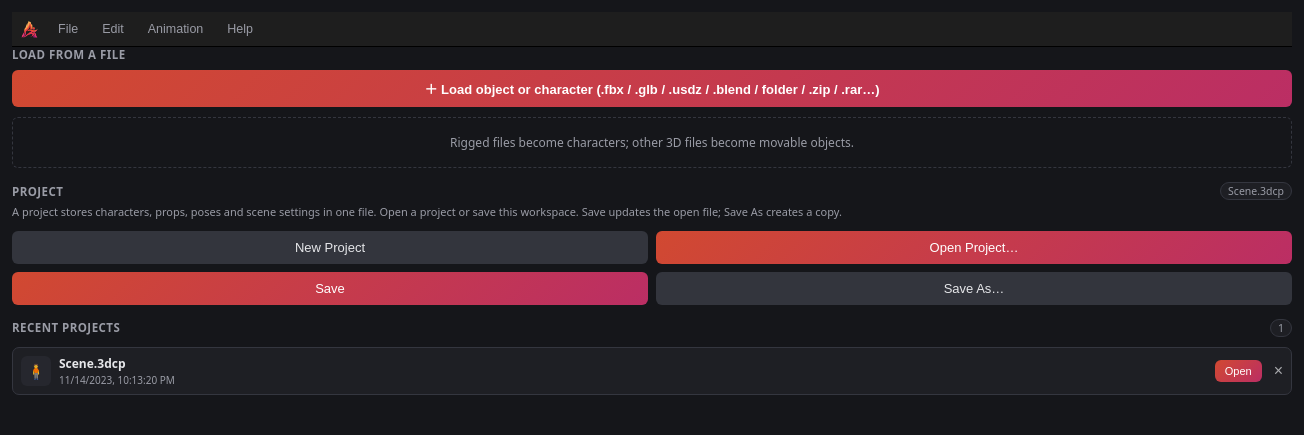
Test: title-bar project saves › shows the saved status and refreshes the Project panel timestamp
Click the button "File" at (68, 29), box [46,12,90,46]
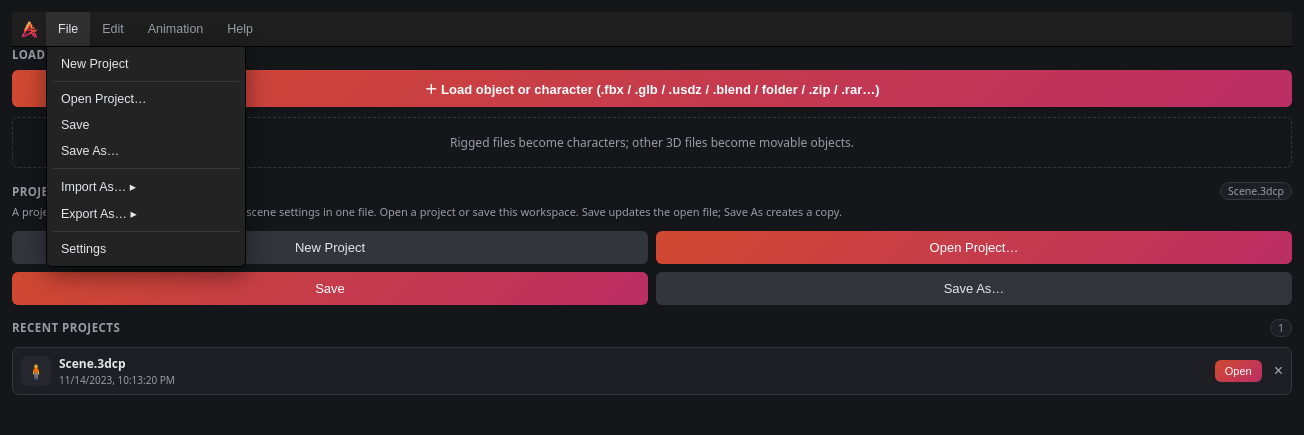
Click the menu item "Save" at (146, 125), box [51,112,241,138]
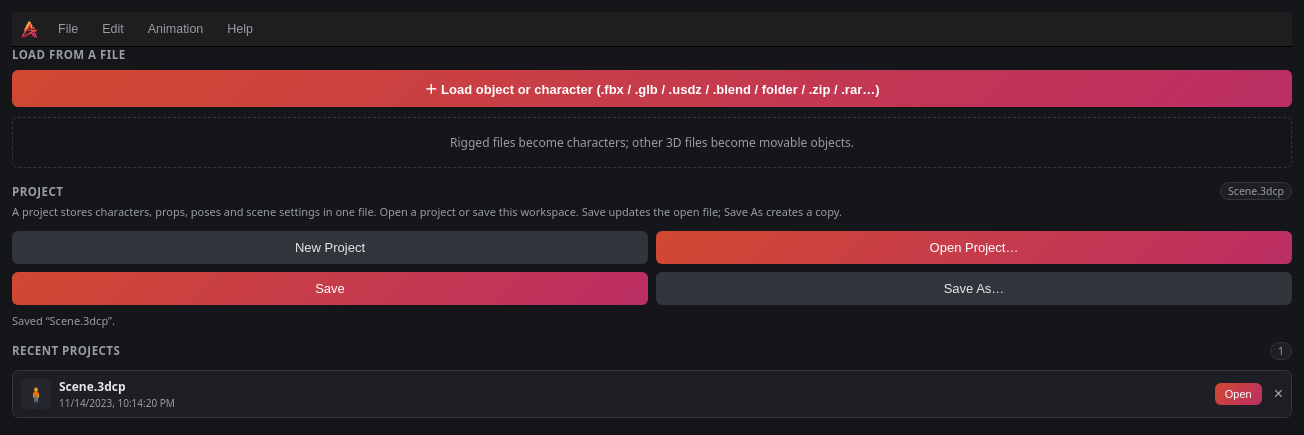
expect the text "Saved “Scene.3dcp”." is shown: met, box [12,312,115,328]
